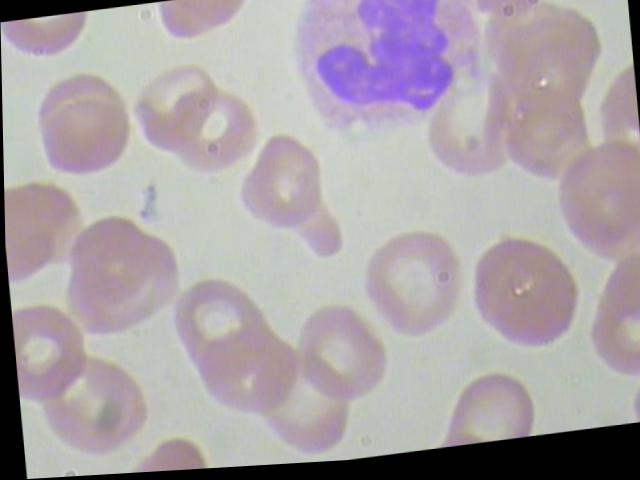Red Blood Cells: (230, 129, 357, 280), (28, 343, 156, 472), (461, 232, 582, 364), (358, 222, 472, 356), (21, 70, 139, 186), (66, 210, 172, 323), (286, 303, 391, 416), (165, 275, 270, 388), (550, 149, 639, 270), (129, 60, 222, 165), (436, 370, 537, 451)
White Blood Cells: (282, 0, 495, 156)
